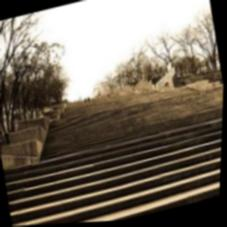Bench: (22, 115, 218, 226)
